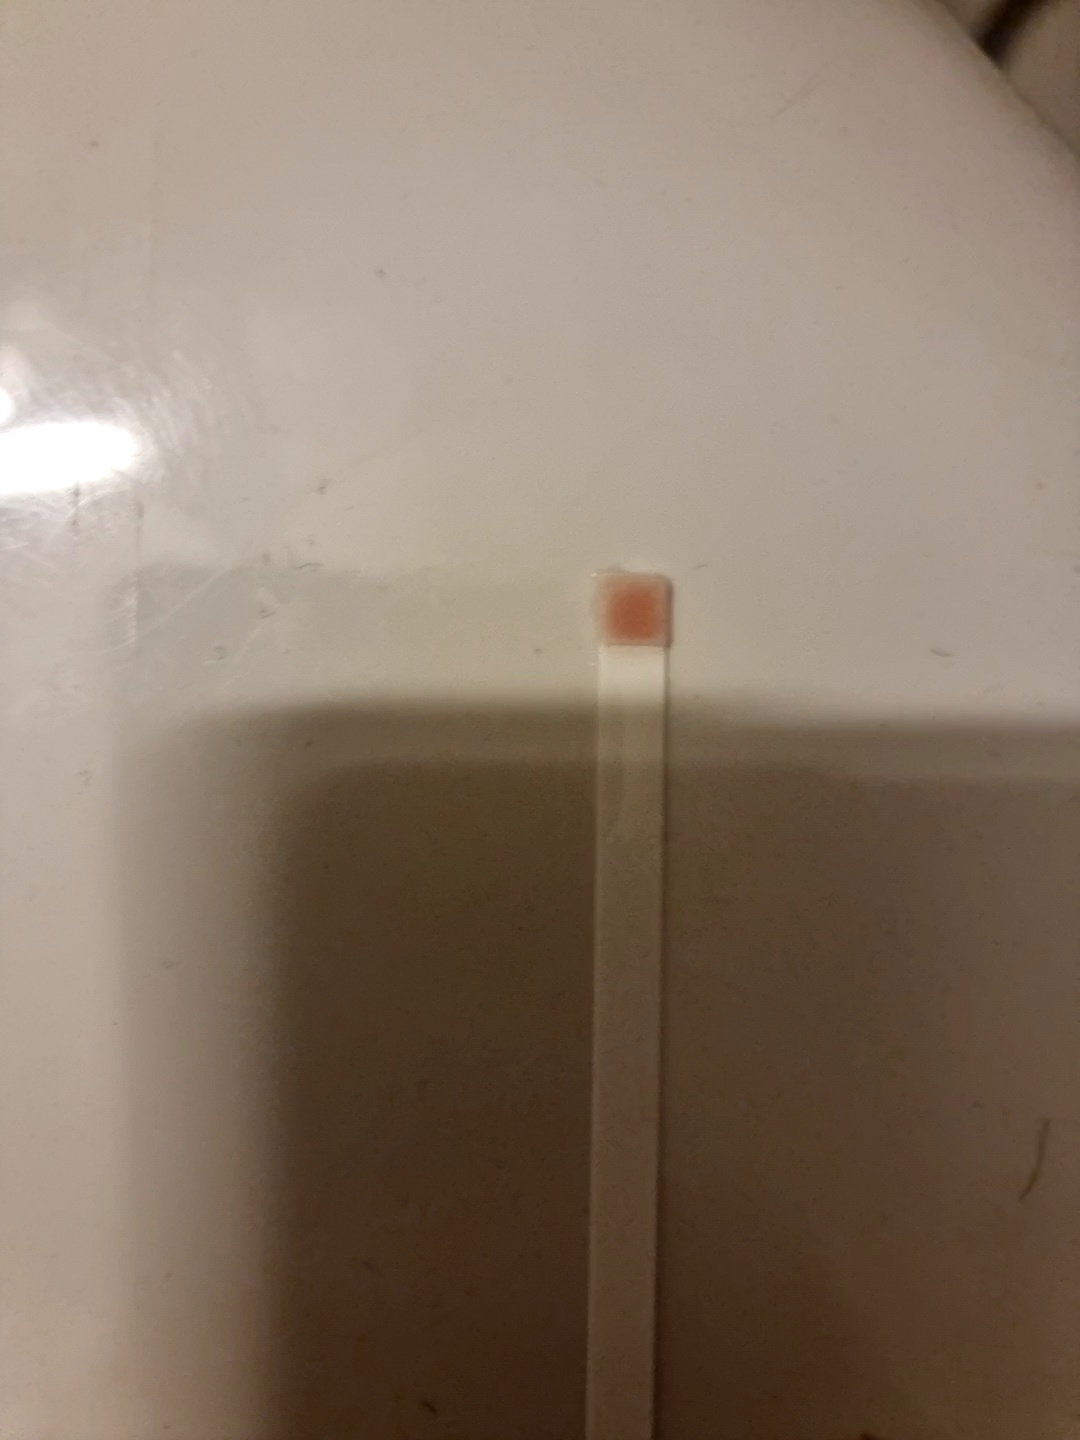keto-tip: (588, 564, 675, 653)
